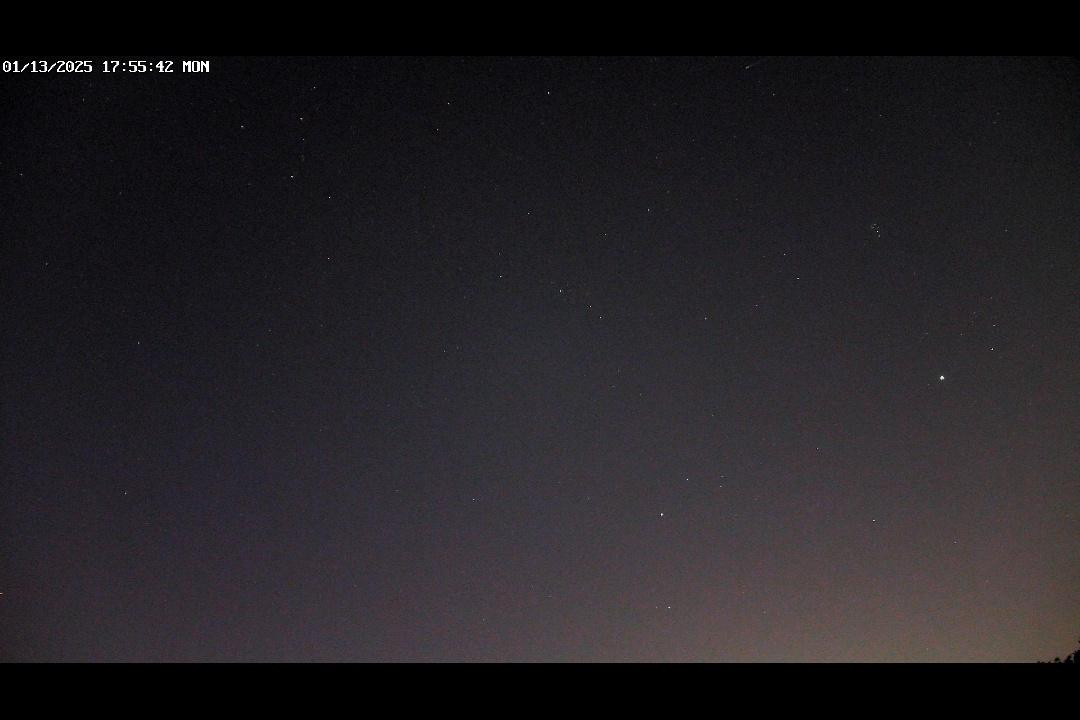Plane: (739, 55, 779, 73)
